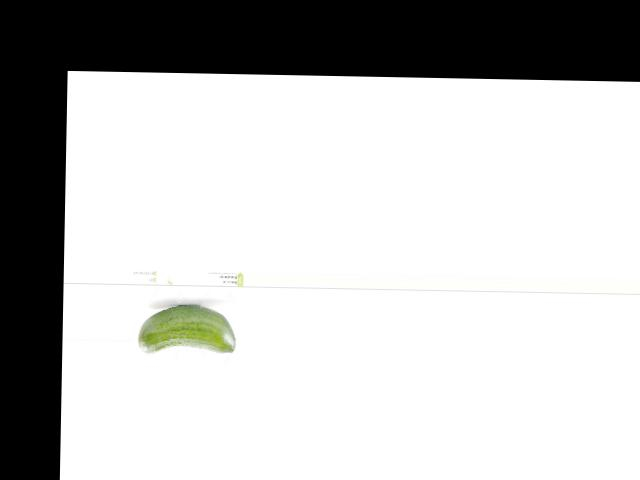cucumber: (137, 303, 235, 353)
